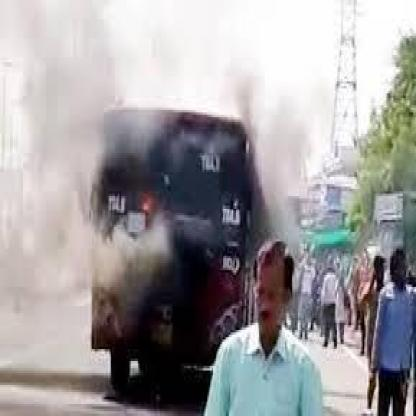smoke: (8, 4, 180, 310), (231, 86, 312, 252)
